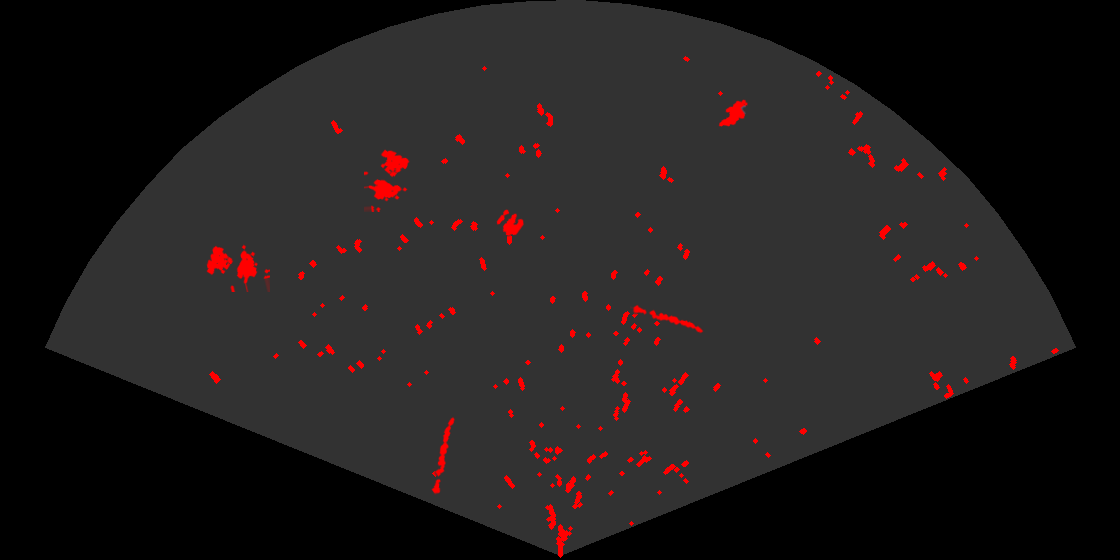AUV: (717, 98, 749, 128)
ball: (495, 208, 525, 237)
cage: (205, 243, 270, 292), (364, 148, 411, 212)
chain: (630, 303, 705, 335), (430, 415, 456, 495)
